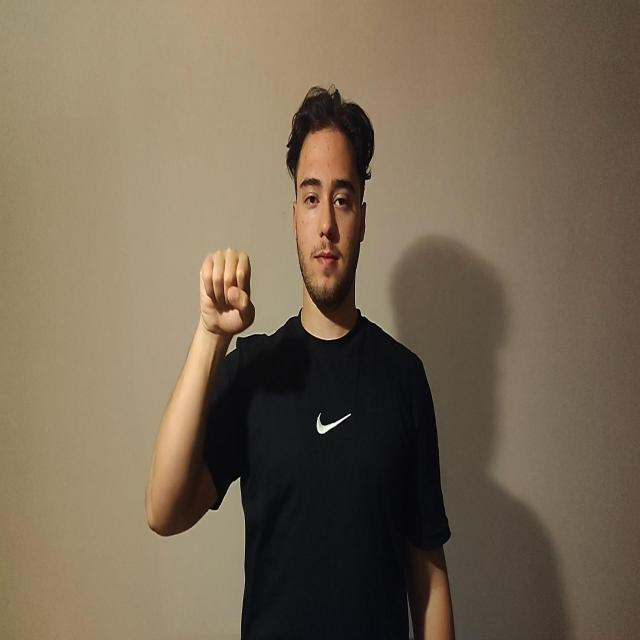yes: (199, 246, 255, 337)
